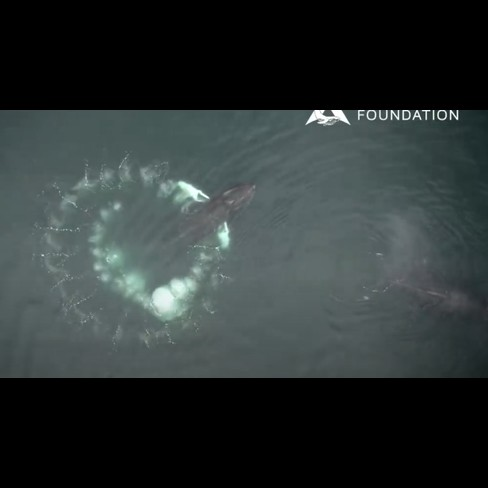hump: (121, 175, 261, 282)
